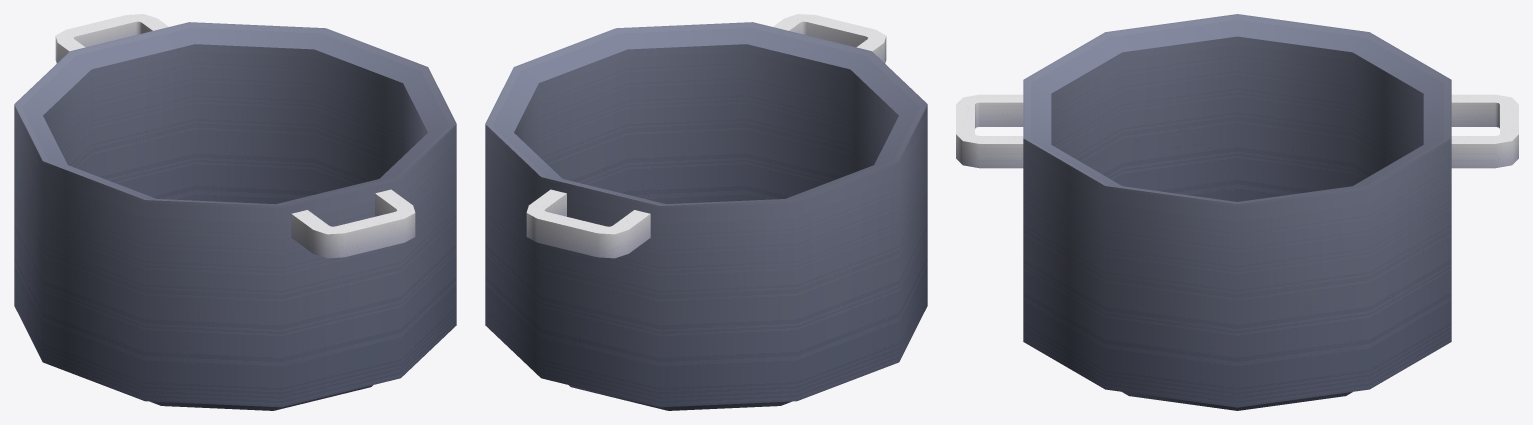
The model's file is pot.glb.
3 views of the same model, side by side, from view 1: azimuth 30°, elevation 25°; view 2: azimuth 150°, elevation 25°; view 3: azimuth 270°, elevation 25° (orthographic).
Parts seen in each view (by area): view 1: pot; view 2: pot; view 3: pot.
Part boxes in pixels (x1,y1,x2,y2): pot: (14,14,456,410); pot: (485,14,927,410); pot: (956,14,1518,410).
Bounding box in the file's own units: 0.6574 × 0.3608 × 0.8221.
Materials: 1 (1 with a texture image).
